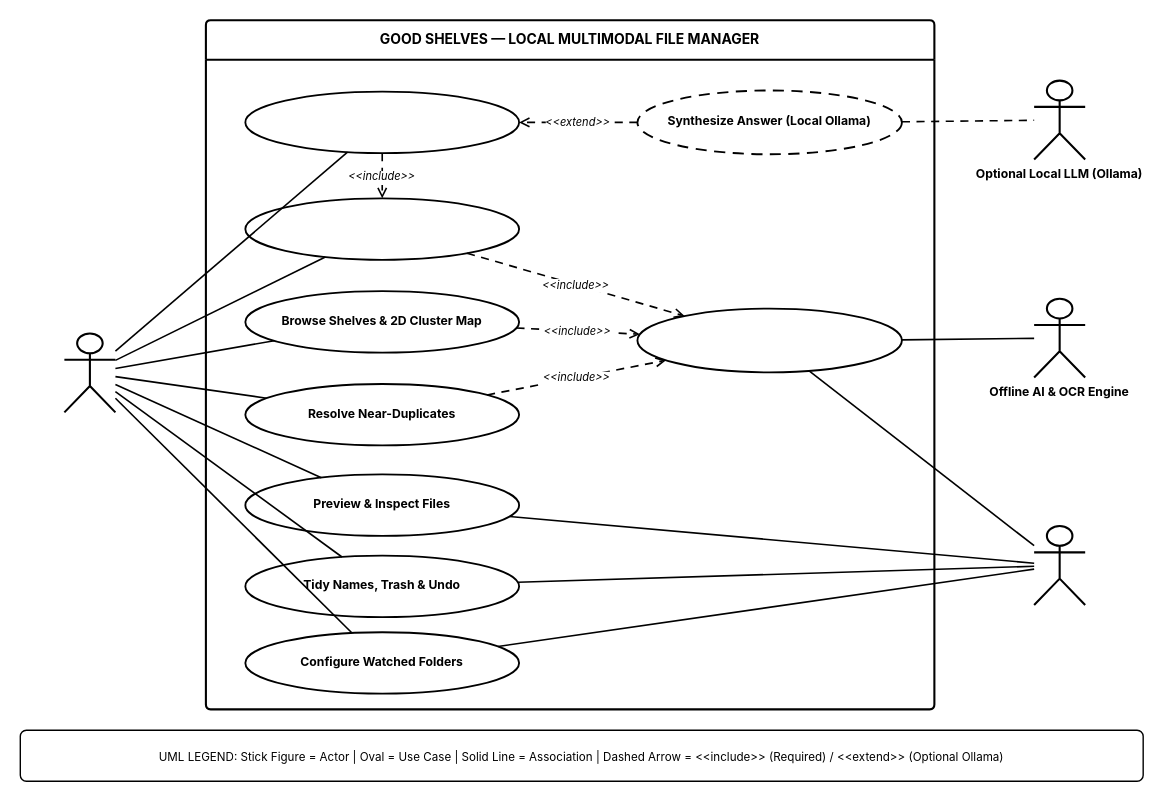
The diagram is 1165 pixels wide and 803 high, and some of its shapes have lost their labels. Each missing label, with the box of its shape:
Ask Questions (Grounded Q&A): (244, 90, 519, 153)
Desktop User: (63, 332, 116, 413)
Hybrid Semantic Search: (244, 197, 519, 260)
Index Files & Extract OCR: (636, 307, 902, 373)
OS Filesystem Watcher: (1033, 524, 1086, 605)
